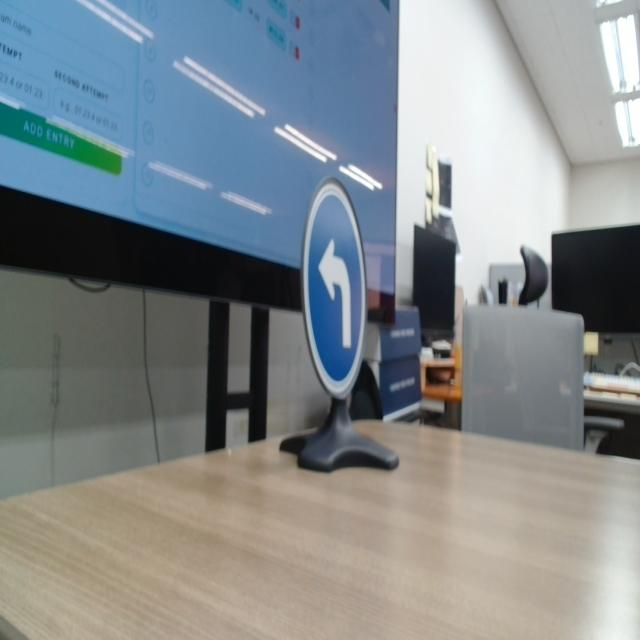left_direction: (281, 168, 396, 402)
